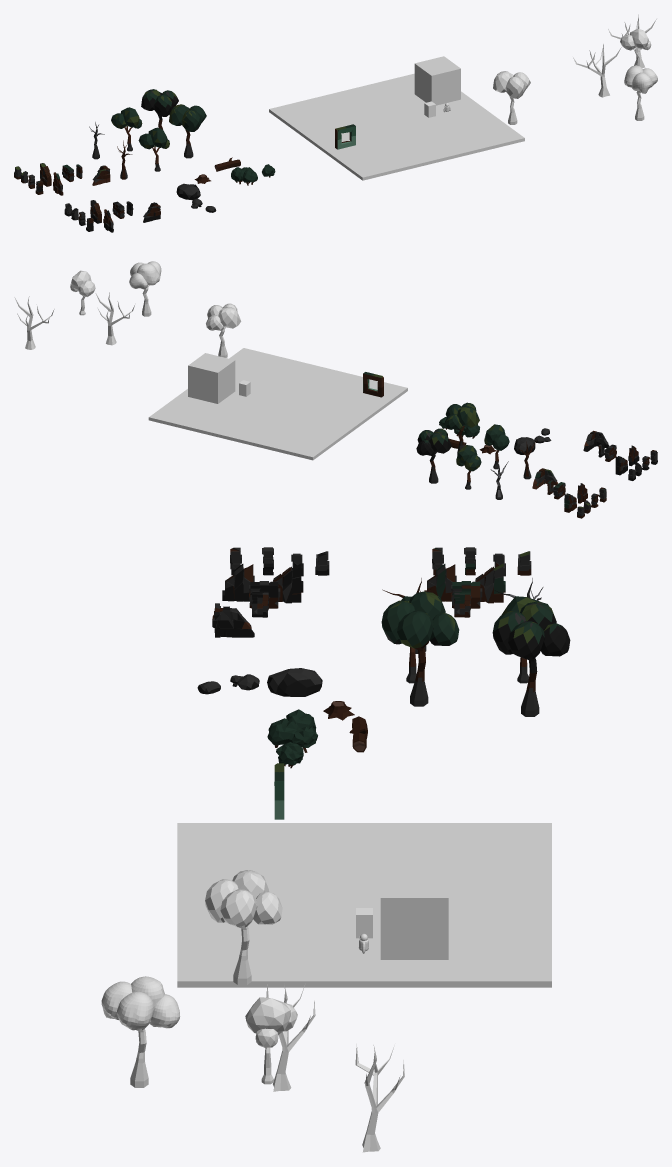
The model's file is EnviroAssets.fbx.
3 renders of one model, top to bottom at view 1: azimuth 30°, elevation 25°; view 2: azimuth 150°, elevation 25°; view 3: azimuth 270°, elevation 25°, orthographic. The views are drawn at different scales.
Parts seen in each view (by area): view 1: Cube.001, Cube.003, Tree 3, Tree 3 Ink, Tree 2, Tree 2 Ink, Tree_average_bare.002, Cube.004, Bush 2, Sphere.016, Sphere.001; view 2: Cube.001, Cube.003, Tree 3 Ink, Tree 3, Tree 2 Ink, Tree 2, Tree_average_bare.001, Tree_average_bare.002, Cube.004; view 3: Cube.001, Cube.003, Tree 3, Tree 3 Ink, Bush 2, Tree_average_bare.001, Rock 3, Icosphere.003, Sphere.004, Sphere.018, Ruin L. Ink, Tree_average_bare.002 (+3 smaller).
Boxes of the visible parts, x1,y1,x2,y2 form: Cube.001: [269, 73, 524, 180]; Cube.003: [414, 56, 460, 105]; Tree 3: [169, 104, 206, 158]; Tree 3 Ink: [141, 89, 178, 129]; Tree 2: [138, 127, 169, 171]; Tree 2 Ink: [111, 107, 142, 151]; Tree_average_bare.002: [573, 44, 621, 97]; Cube.004: [335, 124, 355, 149]; Bush 2: [231, 167, 257, 185]; Sphere.016: [506, 76, 526, 98]; Sphere.001: [632, 72, 652, 93]; Cube.001: [148, 348, 407, 460]; Cube.003: [188, 353, 235, 403]; Tree 3 Ink: [416, 428, 451, 483]; Tree 3: [444, 402, 479, 454]; Tree 2 Ink: [456, 445, 481, 489]; Tree 2: [484, 424, 509, 469]; Tree_average_bare.001: [14, 296, 54, 349]; Tree_average_bare.002: [95, 292, 134, 345]; Cube.004: [363, 372, 383, 397]; Cube.001: [177, 823, 551, 987]; Cube.003: [380, 869, 448, 959]; Tree 3: [381, 591, 459, 706]; Tree 3 Ink: [492, 601, 570, 716]; Bush 2: [267, 709, 317, 752]; Tree_average_bare.001: [355, 1044, 404, 1152]; Rock 3: [267, 668, 322, 696]; Icosphere.003: [245, 997, 290, 1034]; Sphere.004: [117, 991, 154, 1030]; Sphere.018: [220, 889, 257, 926]; Ruin L. Ink: [212, 603, 254, 637]; Tree_average_bare.002: [266, 984, 315, 1091].
Size of the model in its own units: 4083 by 412 by 1376.
Materials: 2 (1 with a texture image).
